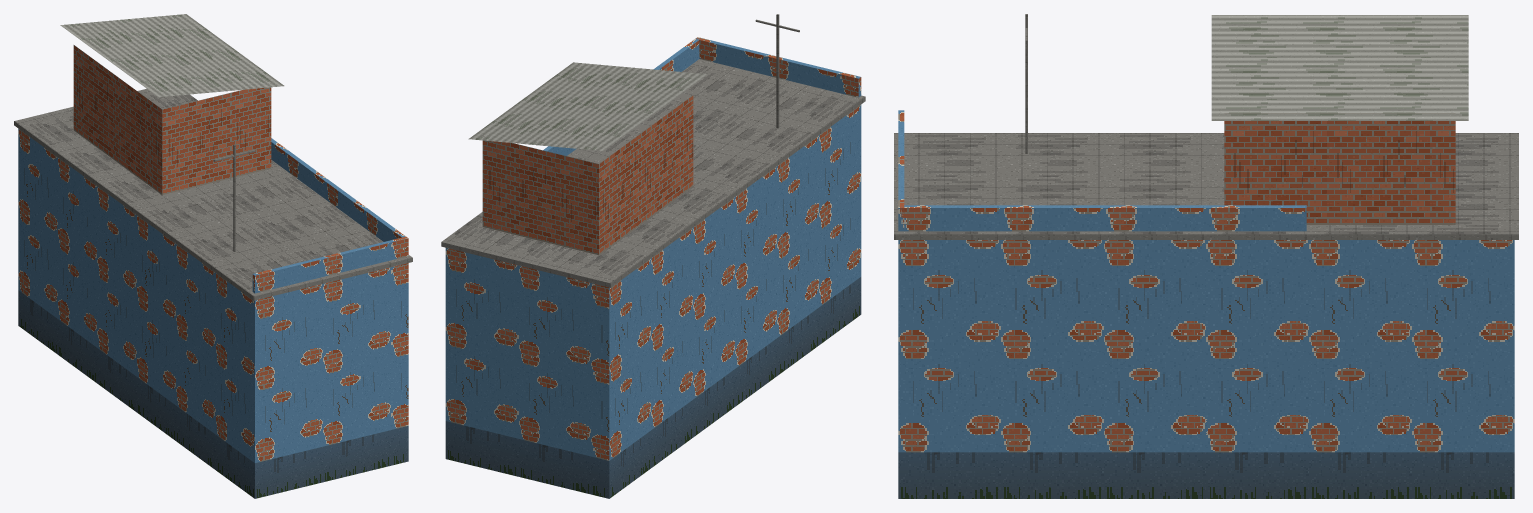
Rendered from bloco_4_sobrado_puxadinho.glb.
The picture shows the model from 3 angles, left to right: view 1: azimuth 30°, elevation 25°; view 2: azimuth 150°, elevation 25°; view 3: azimuth 270°, elevation 25°; orthographic projection. The views are drawn at different scales.
Parts seen in each view (by area): view 1: paredes-col, telhado, puxadinho-col; view 2: paredes-col, telhado, puxadinho-col; view 3: paredes-col, telhado, puxadinho-col.
Boxes of the visible parts, bbox=[...] form: paredes-col: bbox=[18, 128, 408, 498]; telhado: bbox=[14, 14, 412, 300]; puxadinho-col: bbox=[73, 45, 271, 194]; paredes-col: bbox=[445, 37, 861, 498]; telhado: bbox=[441, 14, 865, 287]; puxadinho-col: bbox=[482, 95, 693, 255]; paredes-col: bbox=[898, 110, 1514, 498]; telhado: bbox=[894, 14, 1518, 239]; puxadinho-col: bbox=[1224, 113, 1455, 224].
Size of the model in its own units: 4.66 by 8.7 by 12.16.
Materials: 5 (5 with a texture image).
